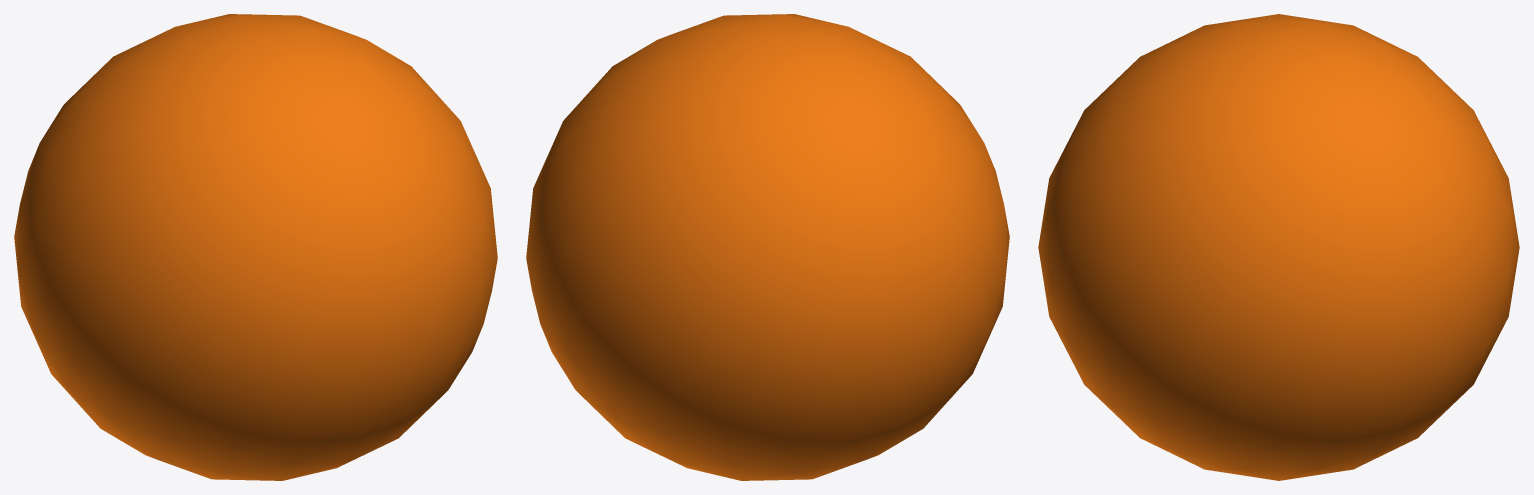
Rendered from Orange.FBX.
The picture shows the model from 3 angles, left to right: view 1: azimuth 30°, elevation 25°; view 2: azimuth 150°, elevation 25°; view 3: azimuth 270°, elevation 25°; orthographic projection.
Visible parts, largest first — view 1: Orange; view 2: Orange; view 3: Orange.
Part boxes in pixels (x1,y1,x2,y2): Orange: [14, 14, 497, 480]; Orange: [526, 14, 1009, 480]; Orange: [1038, 14, 1519, 480].
Size of the model in its own units: 0.9925 by 0.9564 by 0.9925.
